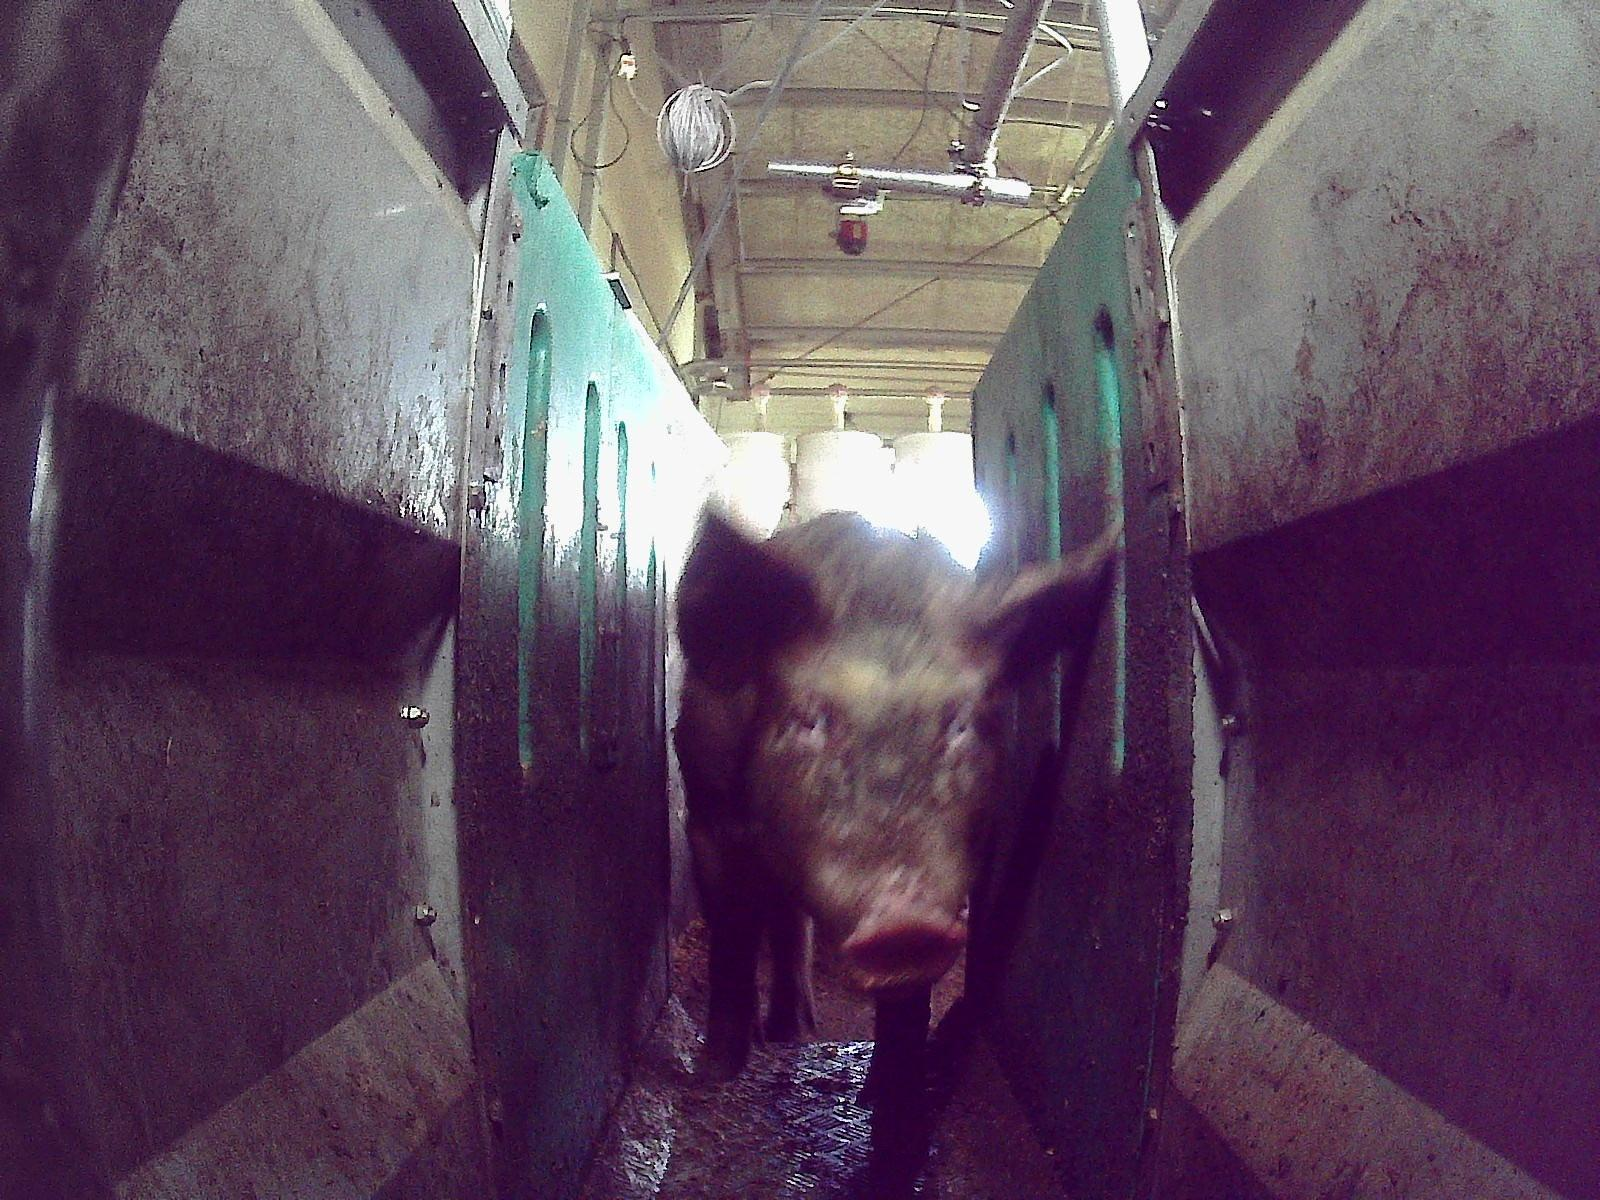Face: (743, 624, 996, 999)
